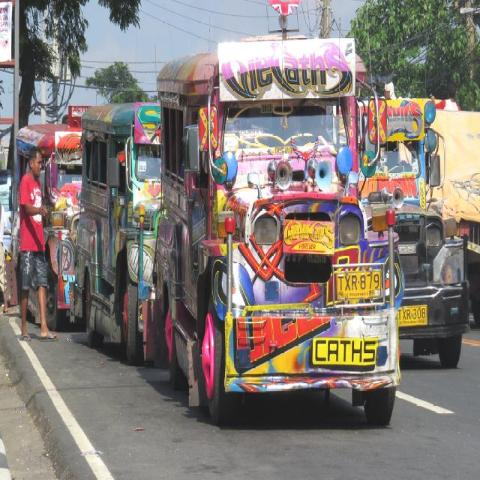jeepney: (160, 55, 406, 436), (358, 48, 480, 416), (73, 83, 183, 381), (8, 104, 92, 338)
